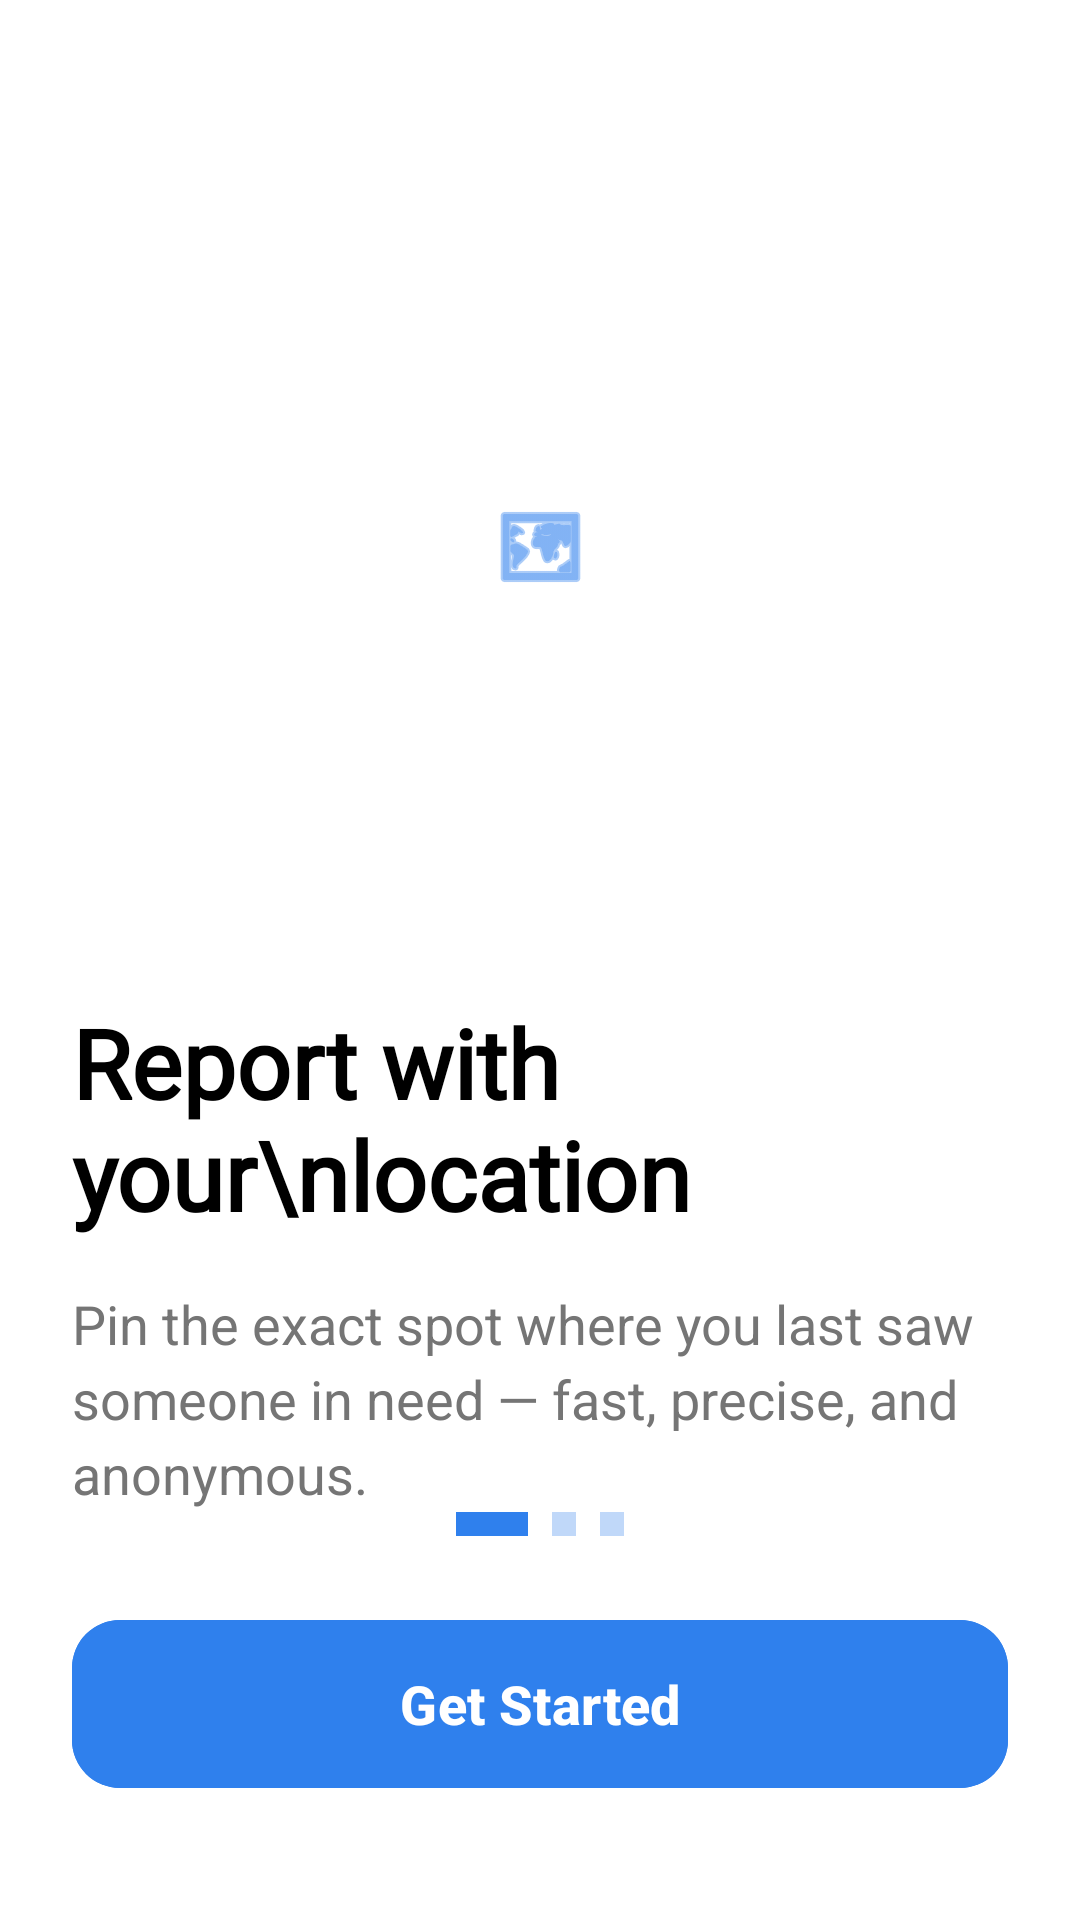

Icons on this 1080px x 1920px Android screen, each with the point to tap as (x=x, y=y):
mapmode: (x=540, y=547)
